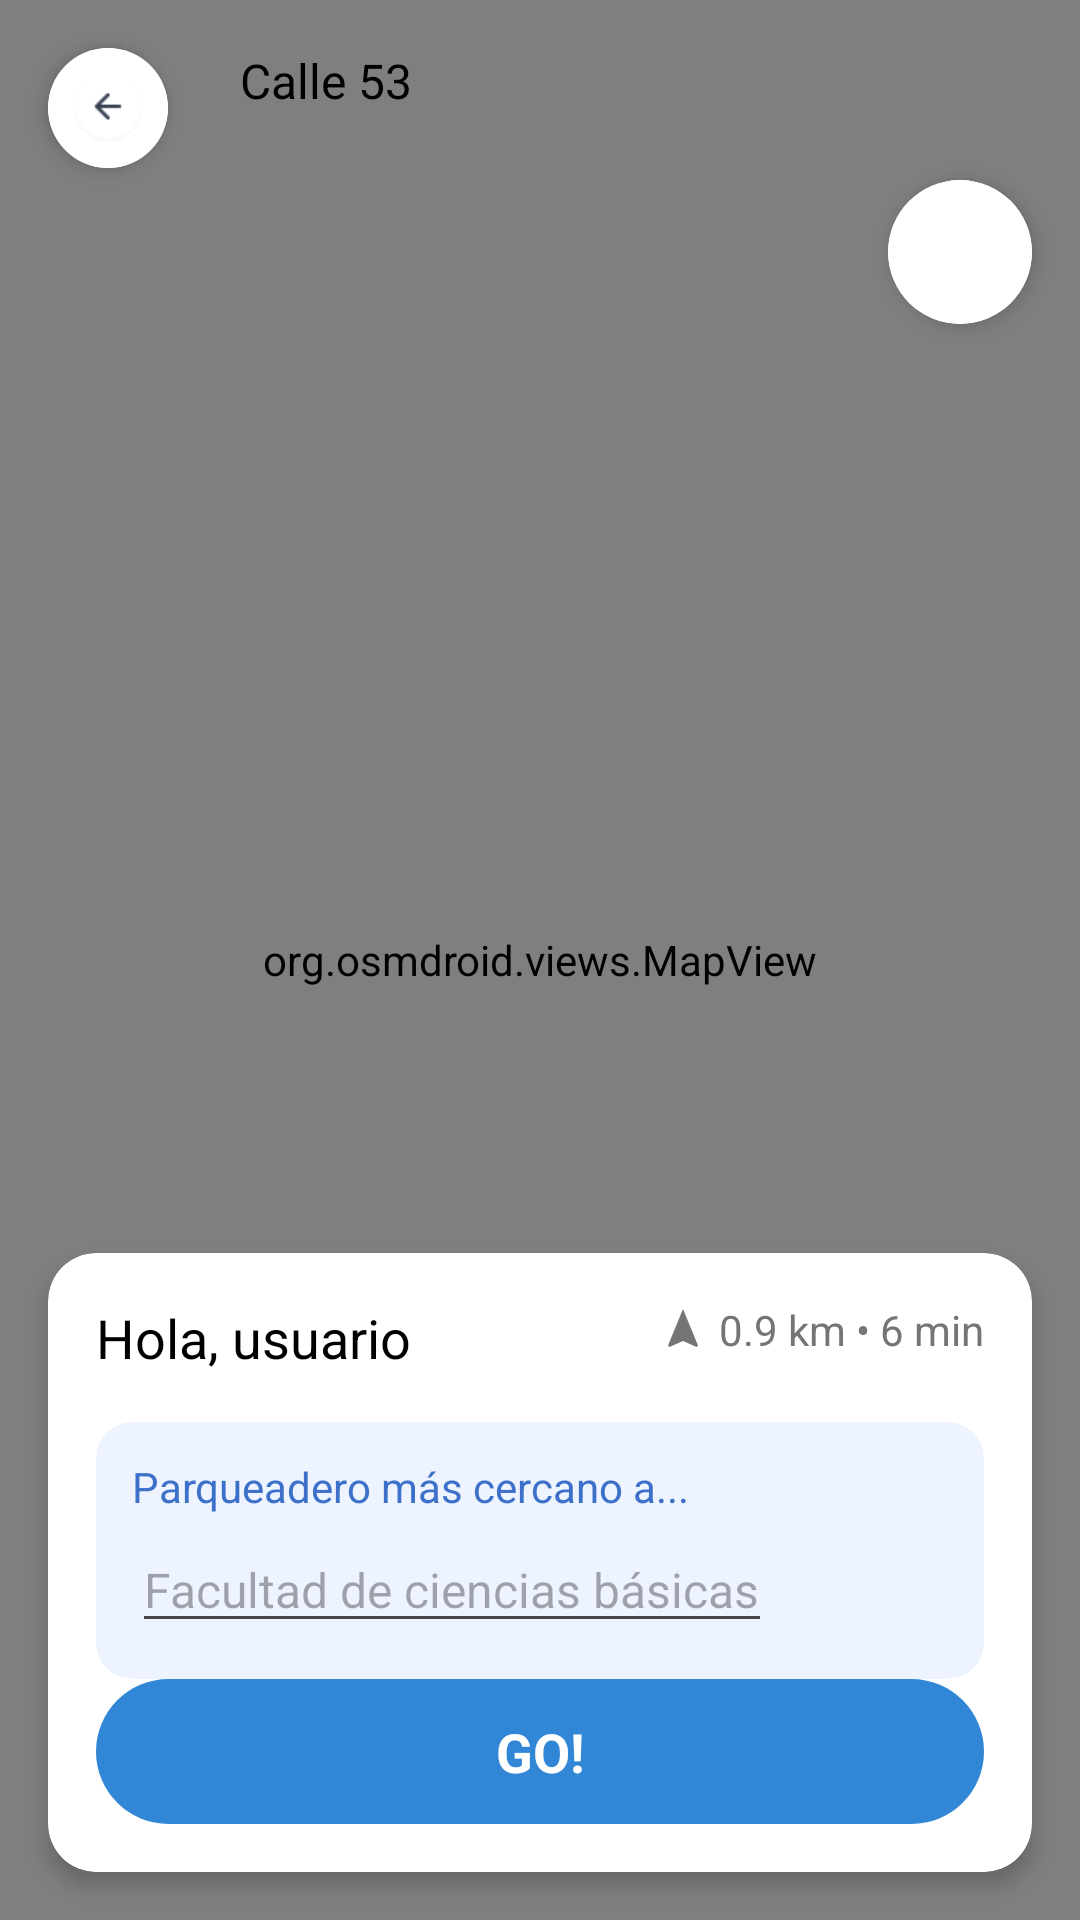

Icon bounding boxes for this 1080 × 1920 phone screenshot, format (x1, y1, x2, y2):
Botón de regreso: (48, 48, 168, 168)
